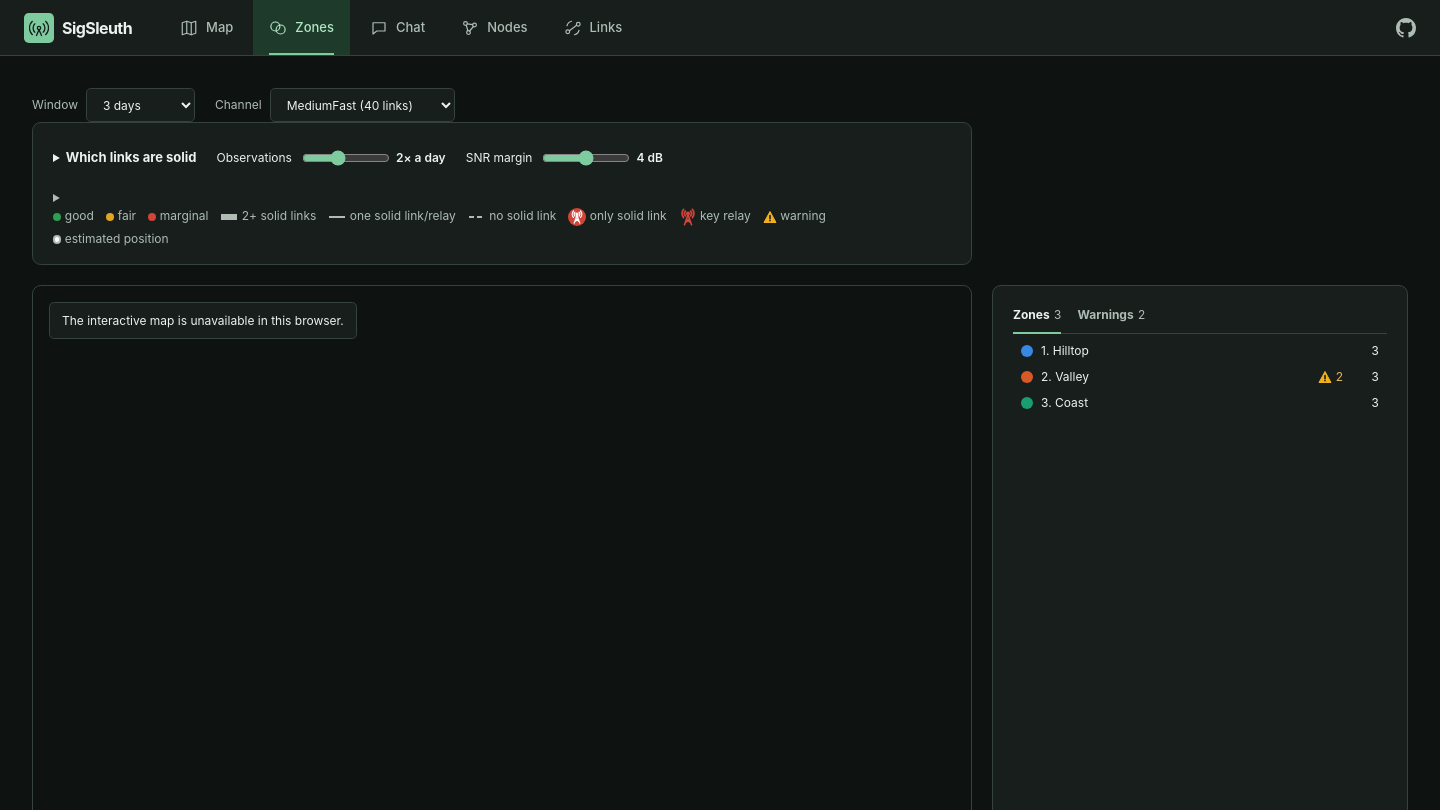
Test: Routing › zones warnings filters healthy relays and steps through the warnings
Click the tab "Warnings2". click: (1112, 318)
box: [1078,302,1146,334]
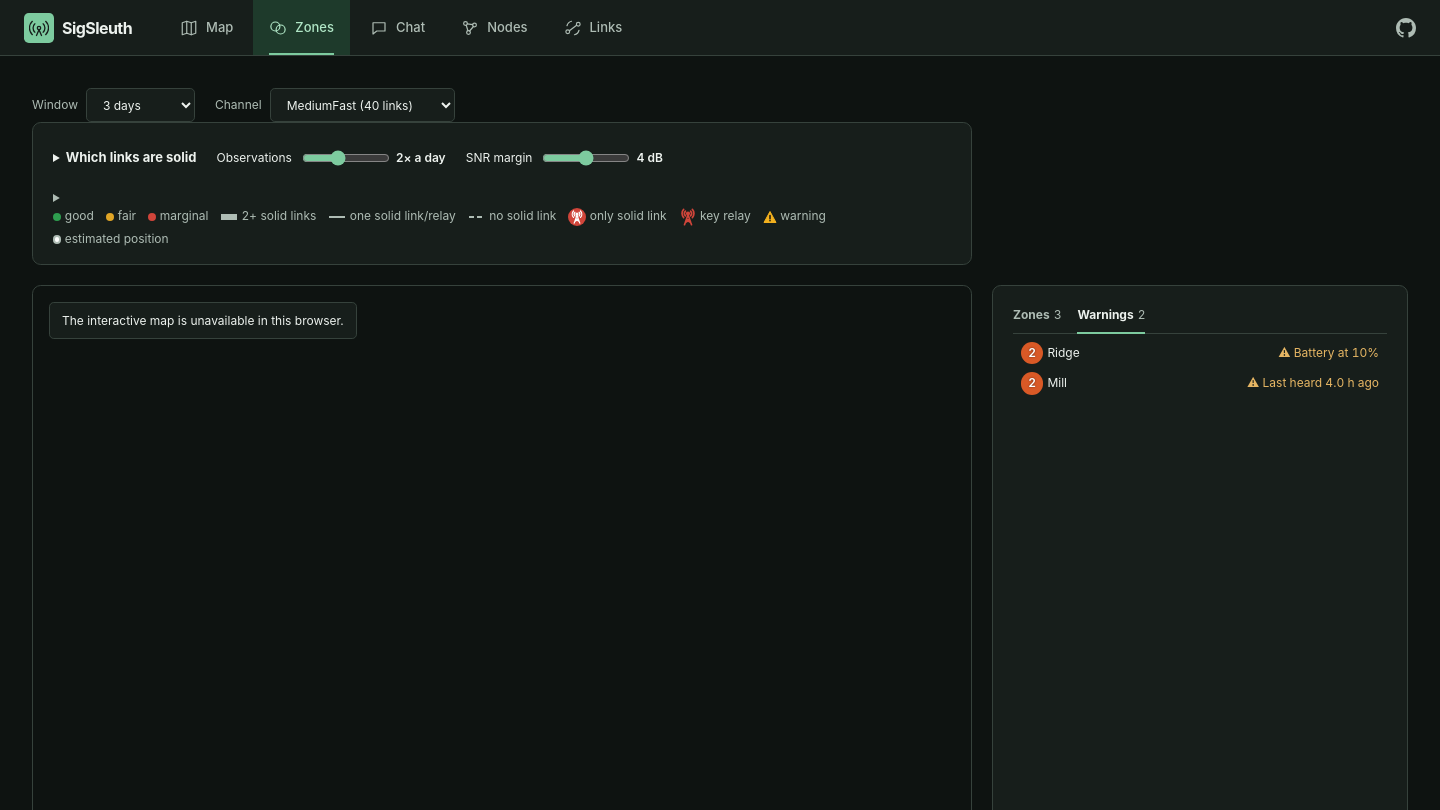
Result: the number of buttons is 2
Result: the button "2 Ridge ⚠ Battery at 10%" is shown
Result: the button "2 Mill ⚠ Last heard 4.0 h ago" is shown at [1013,368,1387,398]
Click the button "2 Ridge ⚠ Battery at 10%". click: (1064, 352)
box: [1013,338,1387,368]
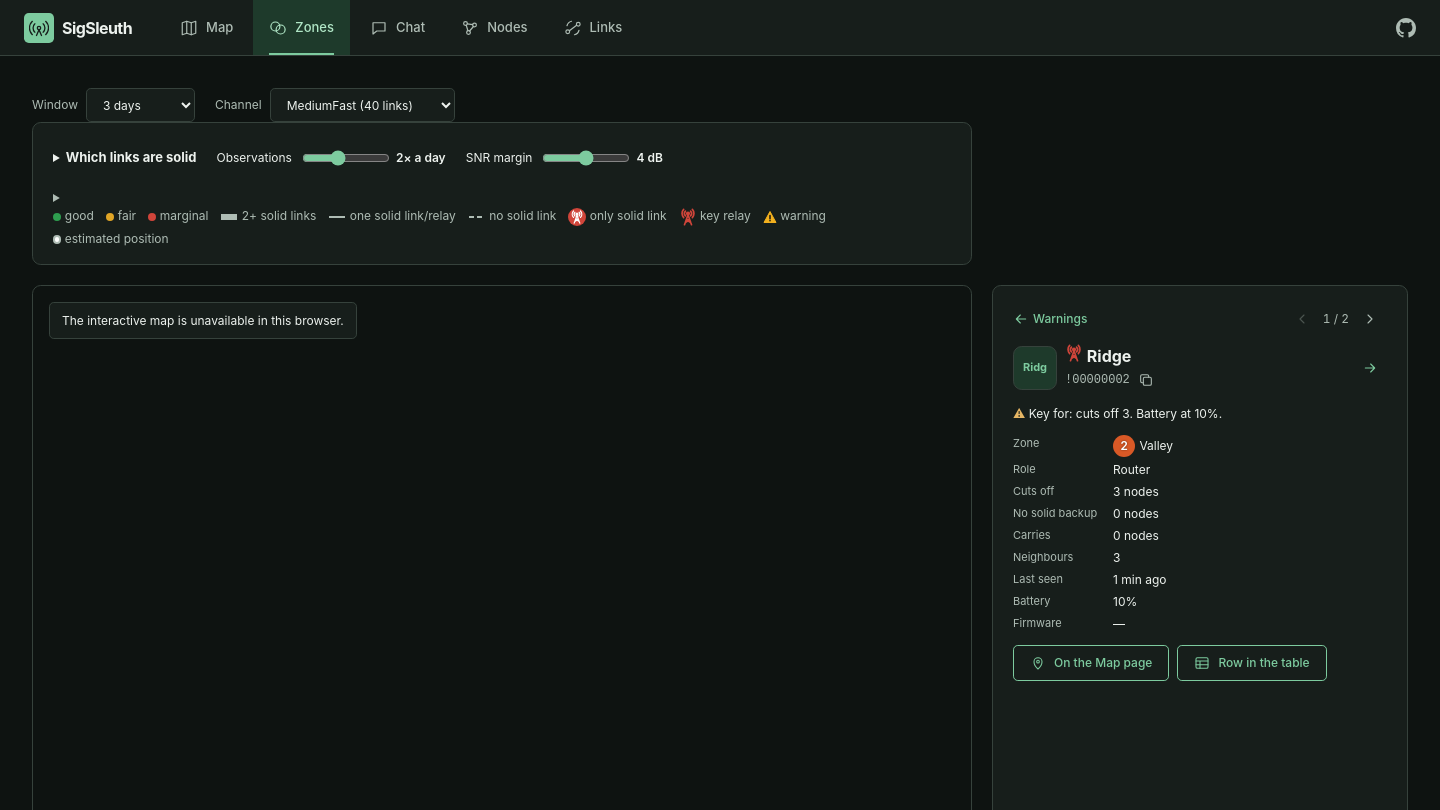
Result: the heading "Ridge" is shown at [1065,344,1131,366]
Result: the element with class "sidebar-step" reads "1 / 2" at [1285,302,1387,336]
Click the button named "Next key relay". click: (1370, 319)
box: [1353,302,1387,336]
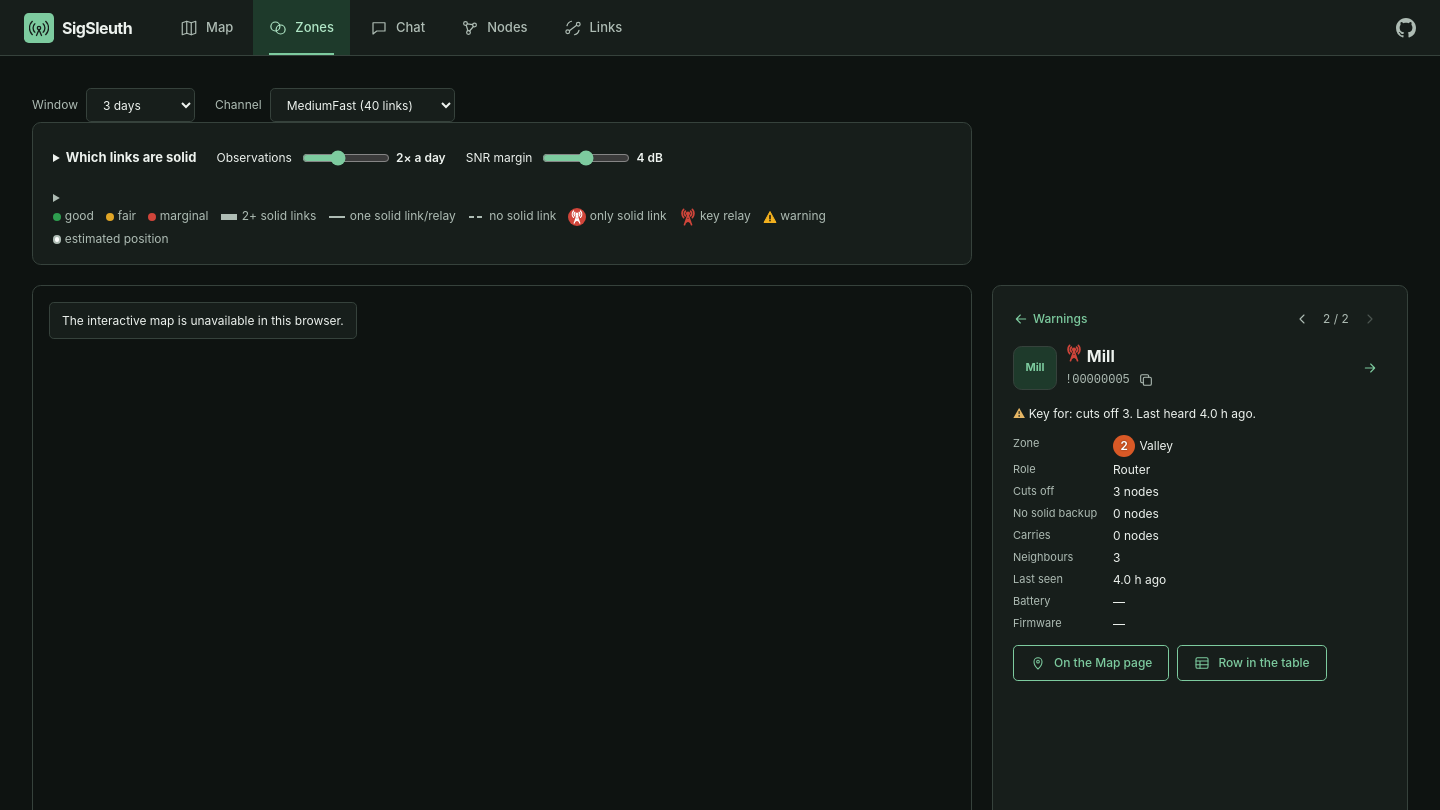
Result: the element with class "sidebar-step" reads "2 / 2" at [1285,302,1387,336]
Result: the heading "Mill" is shown at [1065,344,1115,366]
Click the button with aria-label "Back to Warnings". click: (1050, 319)
box: [1013,310,1087,328]
(page scrolled)
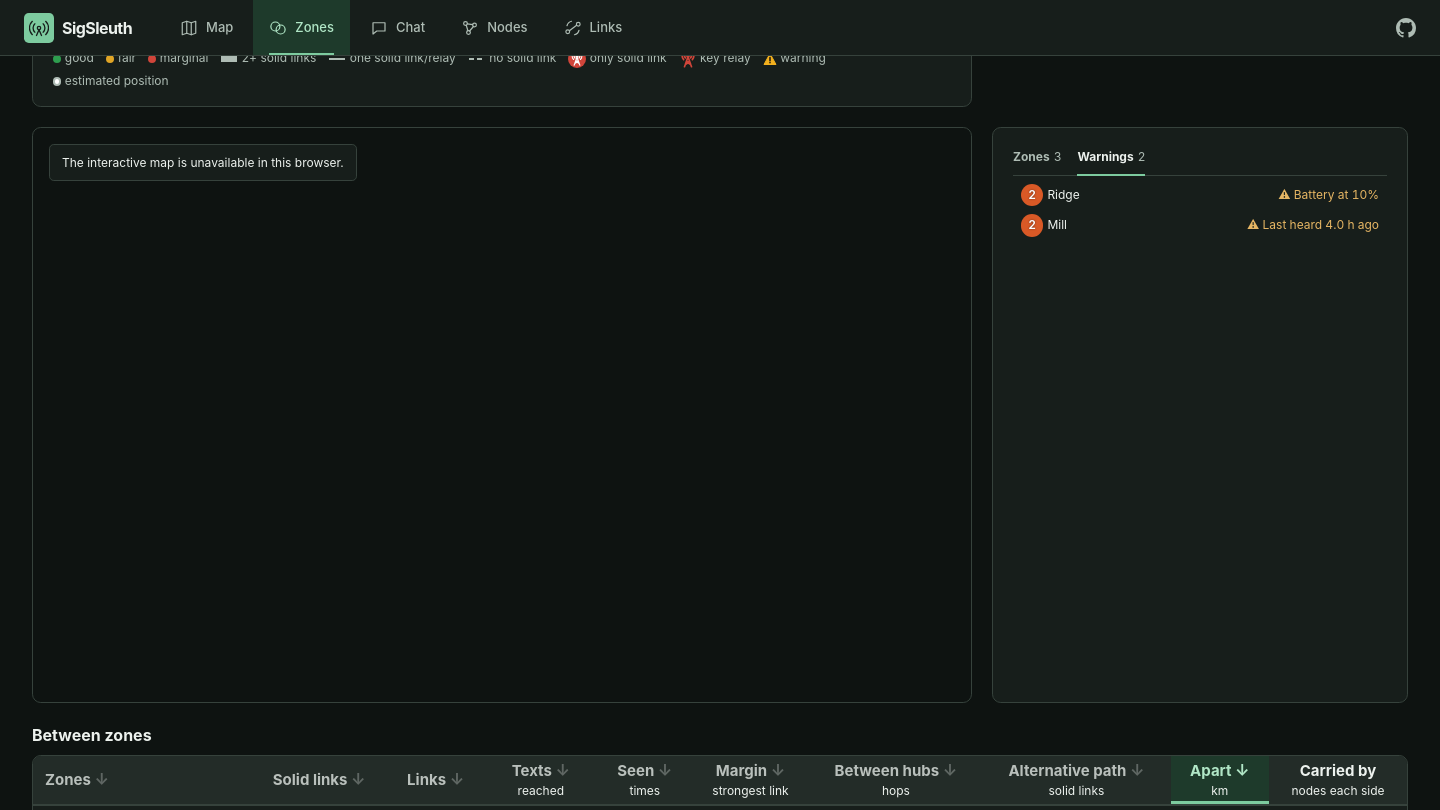
Result: the list named "Warnings" is shown at [1013,180,1387,240]
